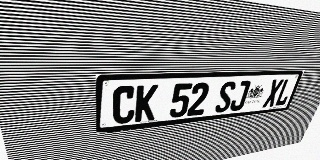2: (187, 82, 210, 116)
5: (169, 83, 193, 118)
C: (112, 86, 136, 125)
J: (229, 81, 251, 111)
K: (134, 85, 158, 122)
L: (274, 79, 296, 106)
S: (214, 81, 237, 113)
X: (262, 79, 284, 108)
